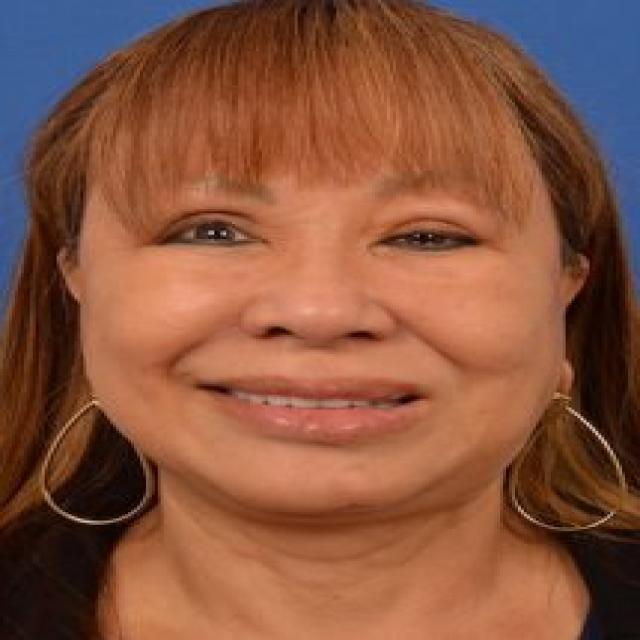normal_face: (105, 86, 548, 524)
